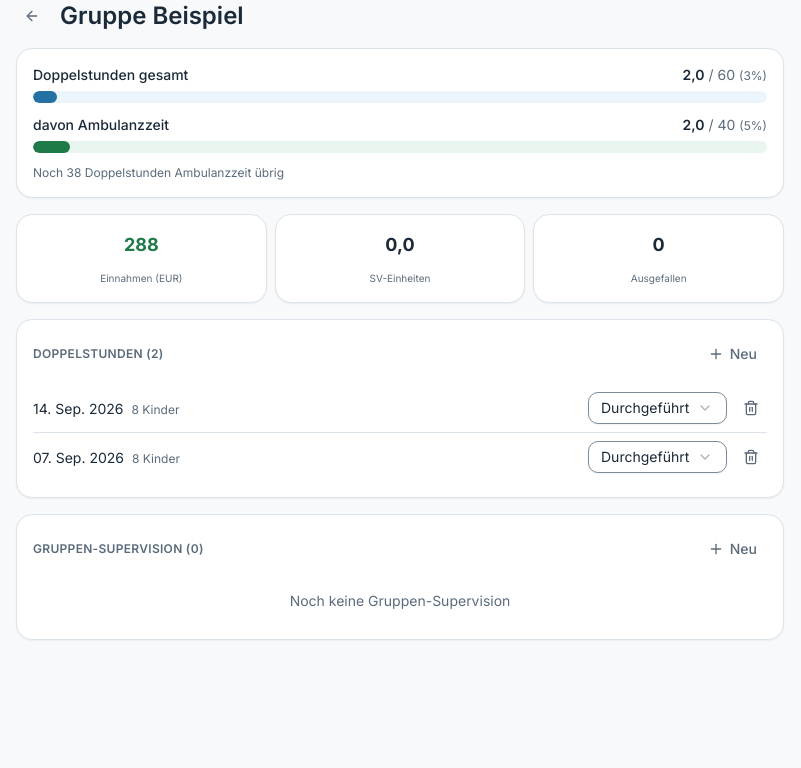
GroupDetailClient › zeigt einen abgelehnten Speichern-Aufruf der Gruppen-Supervision (Netz weg) im Formular
Click the button "Neu" in the row of "Gruppen-Supervision (": (732,549) x1=698 y1=531 x2=767 y2=567
(page scrolled)
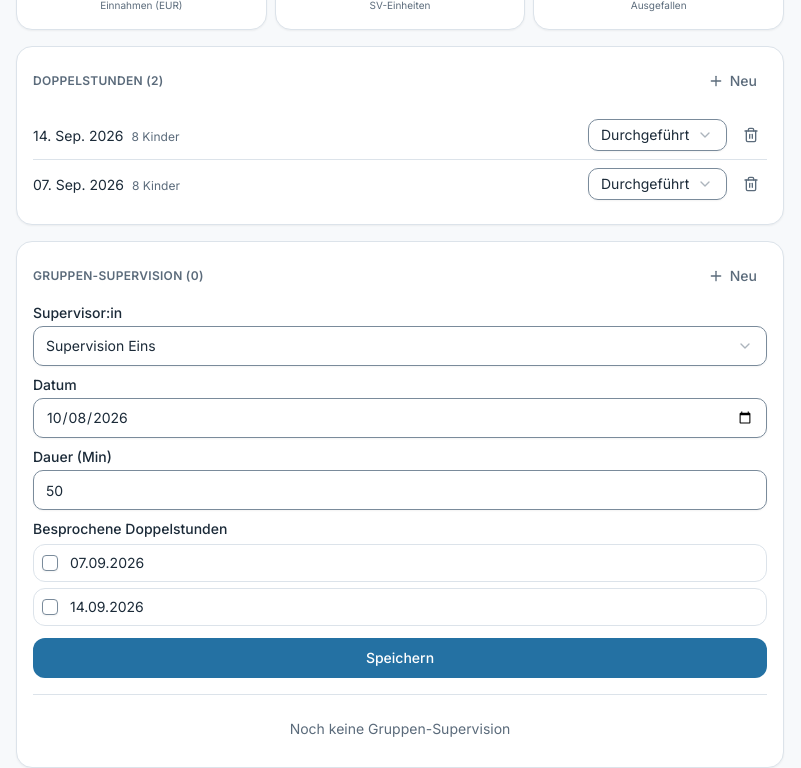
Click the button "Speichern": (400,658) x1=33 y1=638 x2=767 y2=678
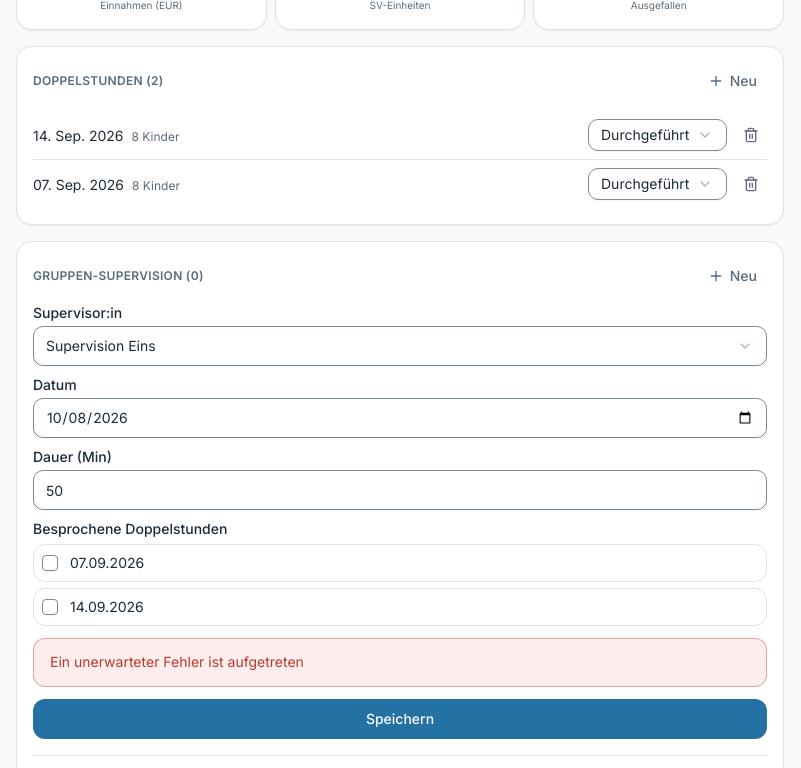
Expected: the message reads "Ein unerwarteter Fehler ist aufgetreten", x1=50 y1=653 x2=304 y2=670
